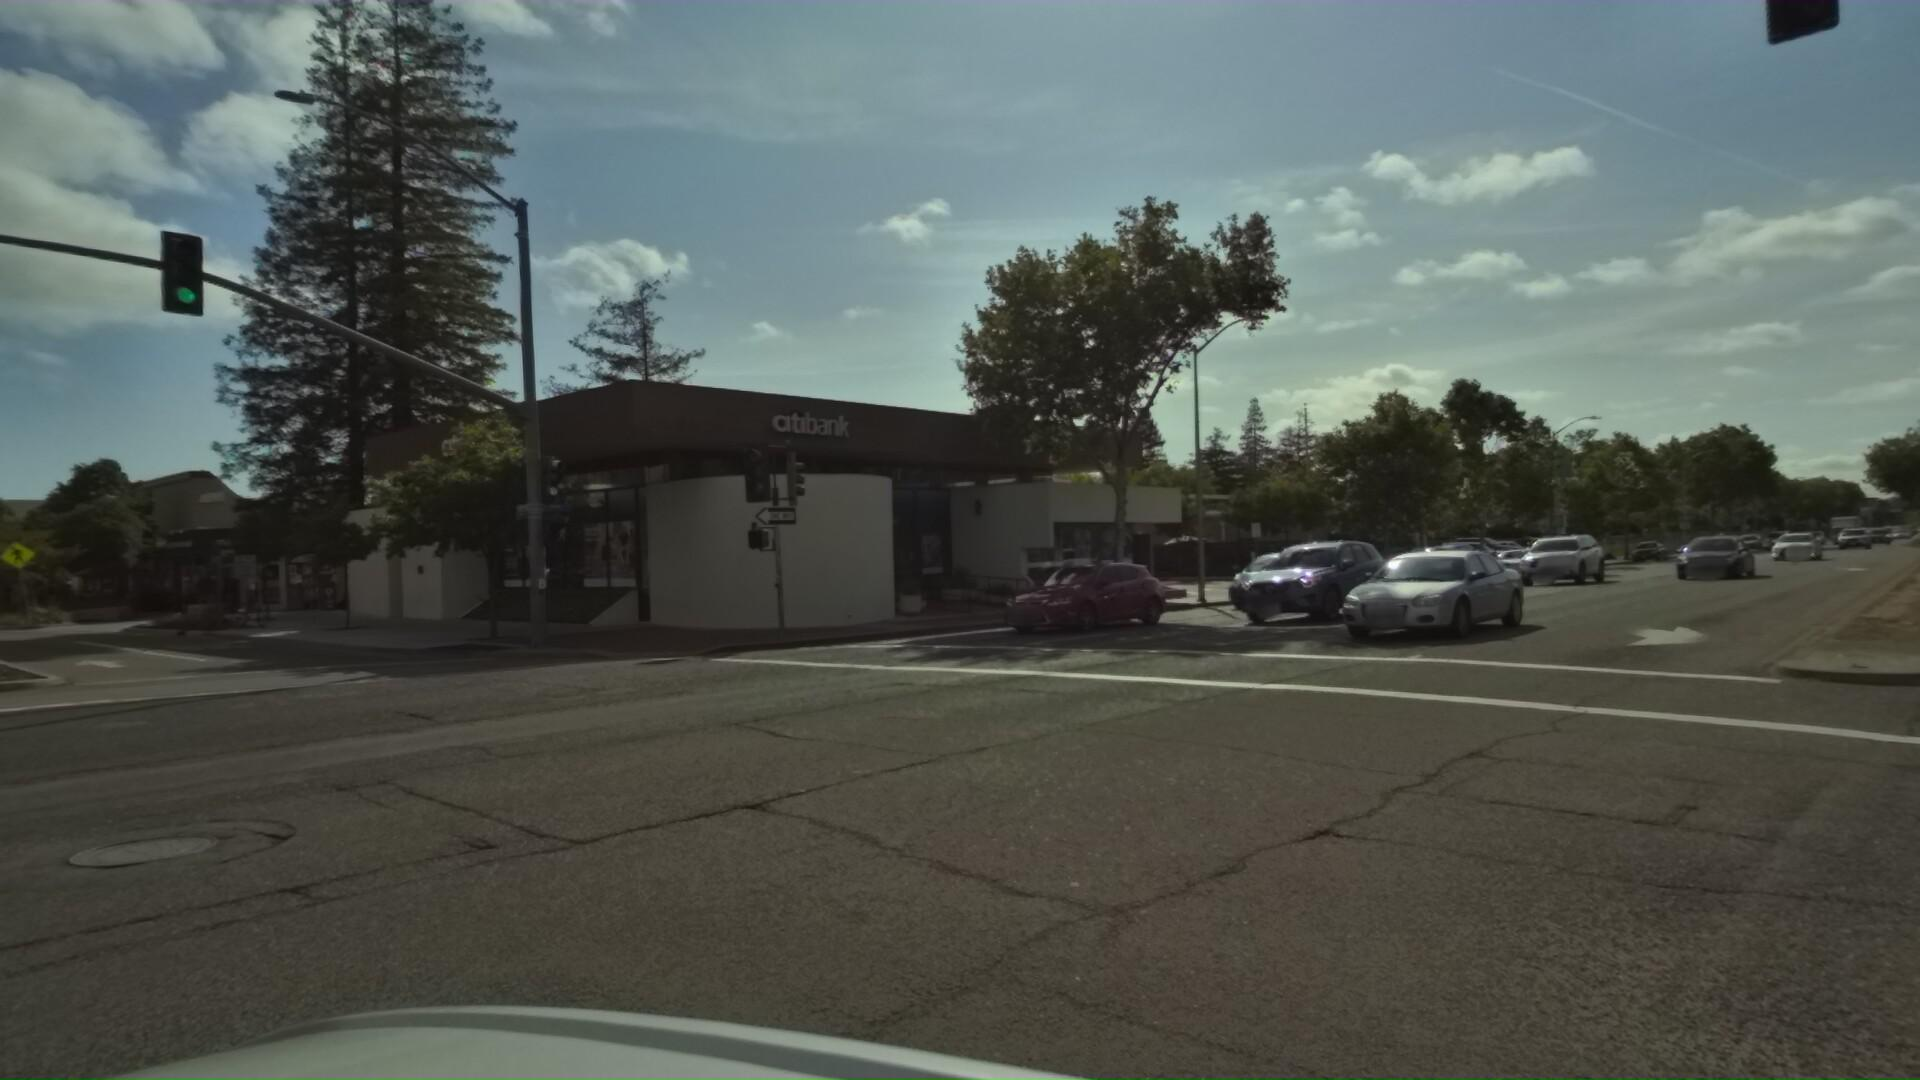car: (1338, 535, 1561, 644), (994, 553, 1188, 638), (1238, 526, 1411, 621), (1226, 539, 1364, 605), (1519, 525, 1619, 583), (1356, 535, 1451, 585), (1680, 525, 1767, 575), (1404, 533, 1487, 580), (1437, 530, 1519, 562), (1487, 539, 1553, 576), (1505, 526, 1586, 555), (1474, 530, 1548, 558), (1776, 524, 1826, 556), (1633, 531, 1672, 556)
